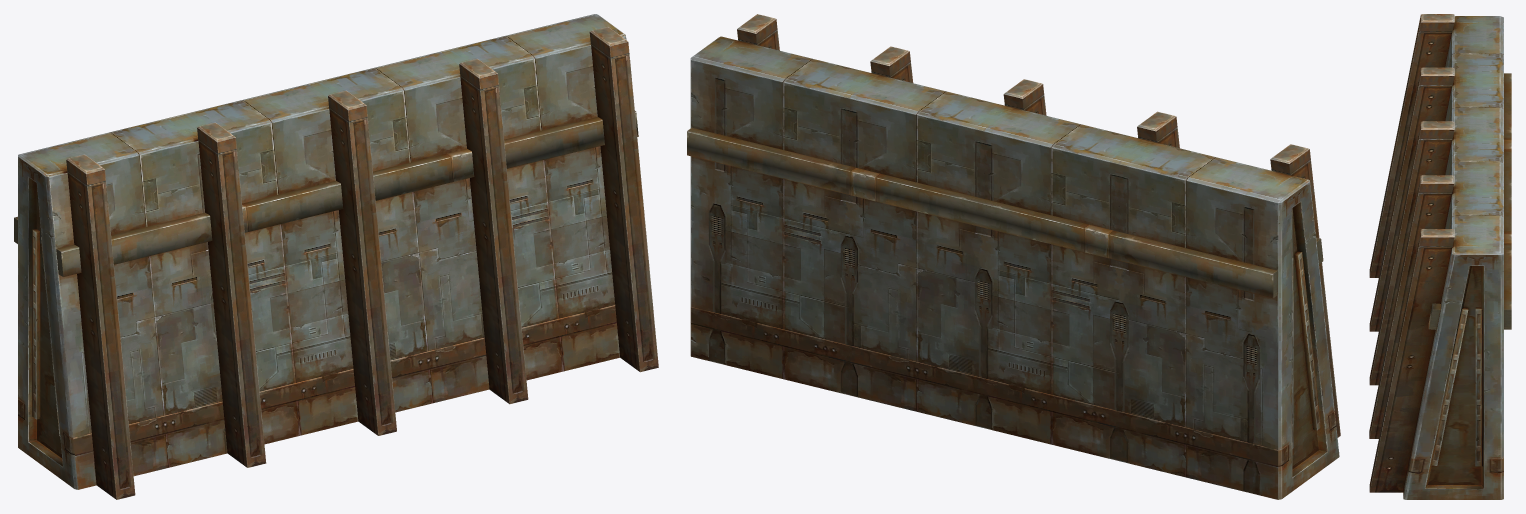
The model's file is hut_arch_und_metal_shoring.glb.
3 renders of one model, left to right at view 1: azimuth 30°, elevation 25°; view 2: azimuth 150°, elevation 25°; view 3: azimuth 270°, elevation 25°, orthographic. The views are drawn at different scales.
Parts seen in each view (by area): view 1: hut_arch_und_metal_shoring; view 2: hut_arch_und_metal_shoring; view 3: hut_arch_und_metal_shoring.
Boxes of the visible parts, x1,y1,x2,y2 form: hut_arch_und_metal_shoring: (14,14,658,499); hut_arch_und_metal_shoring: (687,14,1340,499); hut_arch_und_metal_shoring: (1369,14,1511,499).
Bounding box in the file's own units: 2.42 × 1.22 × 0.6116.
Materials: 1 (1 with a texture image).
